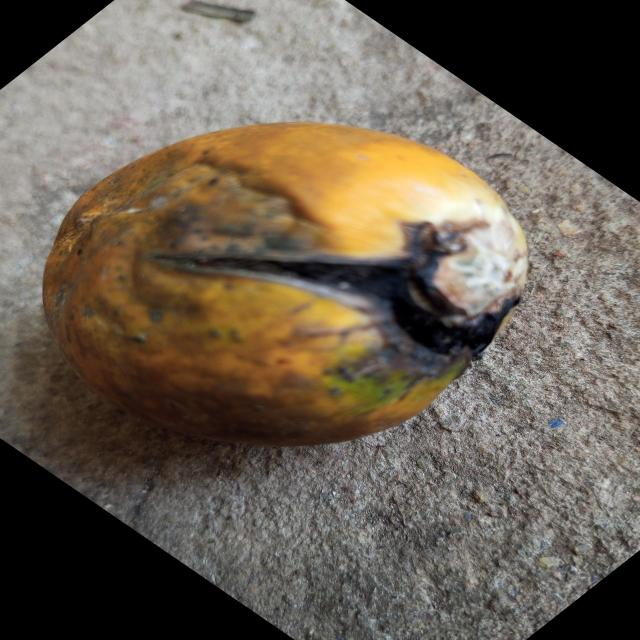damaged: (41, 123, 530, 449)
